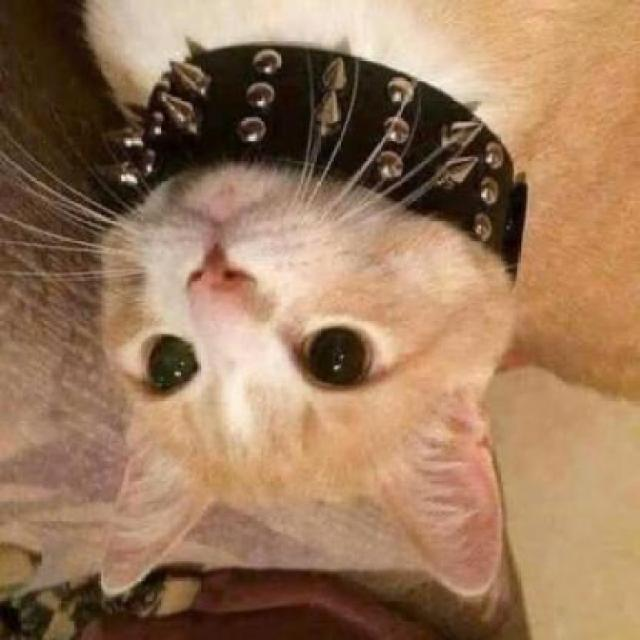cat: (74, 0, 560, 605)
